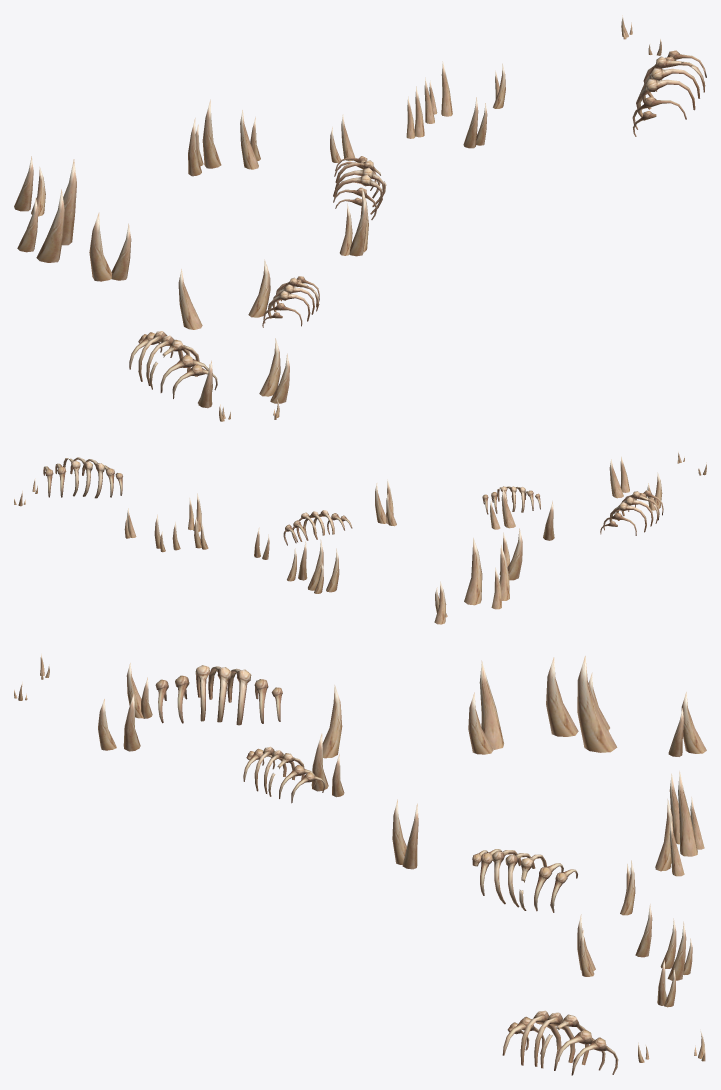
The model's file is zhenghe_group4.FBX.
3 renders of one model, top to bottom at view 1: azimuth 30°, elevation 25°; view 2: azimuth 150°, elevation 25°; view 3: azimuth 270°, elevation 25°, orthographic. The views are drawn at different scales.
Parts seen in each view (by area): view 1: zhenghe_group4; view 2: zhenghe_group4; view 3: zhenghe_group4.
Part boxes in pixels (x1,y1,x2,y2): zhenghe_group4: (14,15,706,421); zhenghe_group4: (14,451,706,624); zhenghe_group4: (14,654,706,1075).
Bounding box in the file's own units: 211 × 26.26 × 156.
